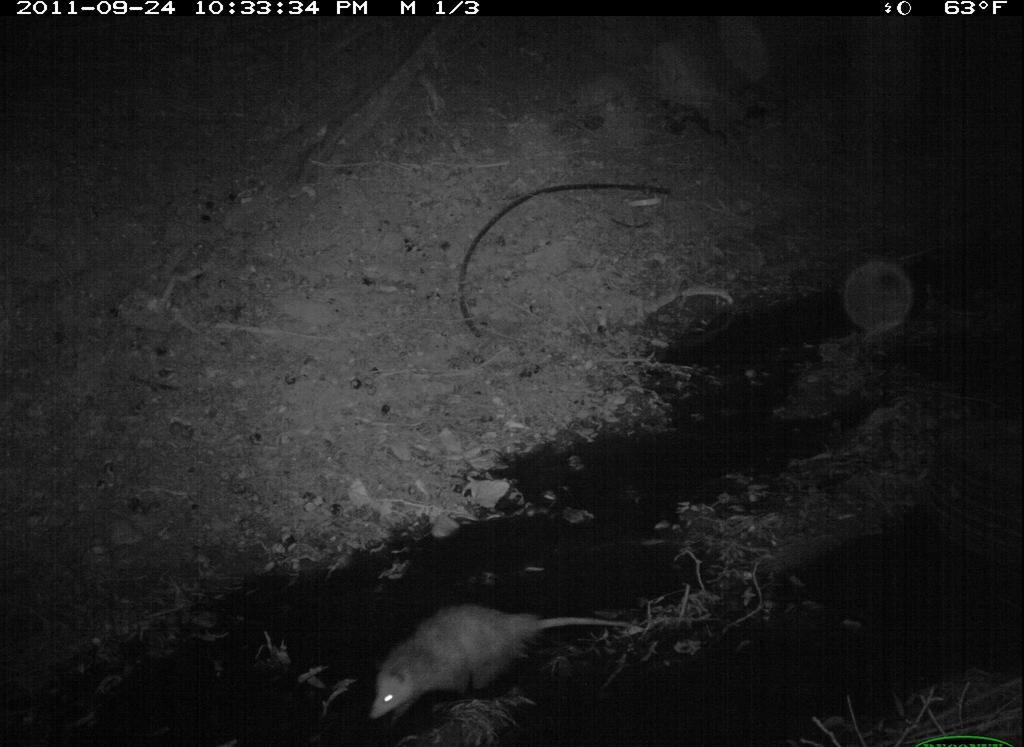opossum: (363, 597, 656, 734)
